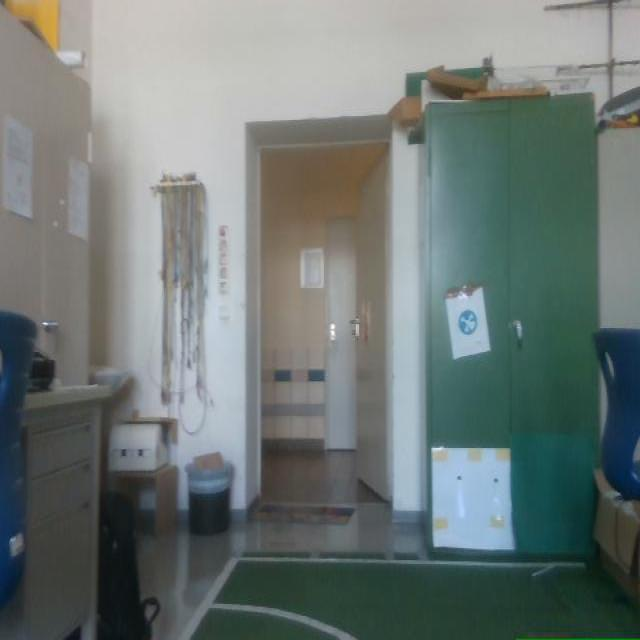objects: (0, 312, 36, 607), (98, 492, 159, 639), (594, 328, 639, 499), (598, 87, 639, 130), (29, 350, 55, 391)
